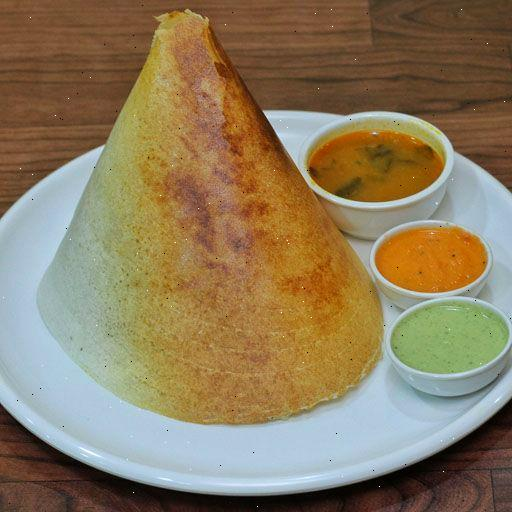dosa: (42, 0, 381, 406)
